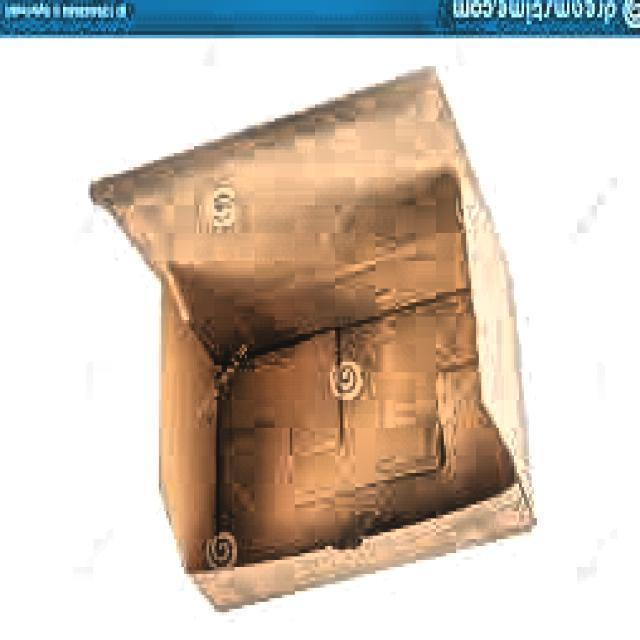cardboard: (90, 70, 540, 620)
